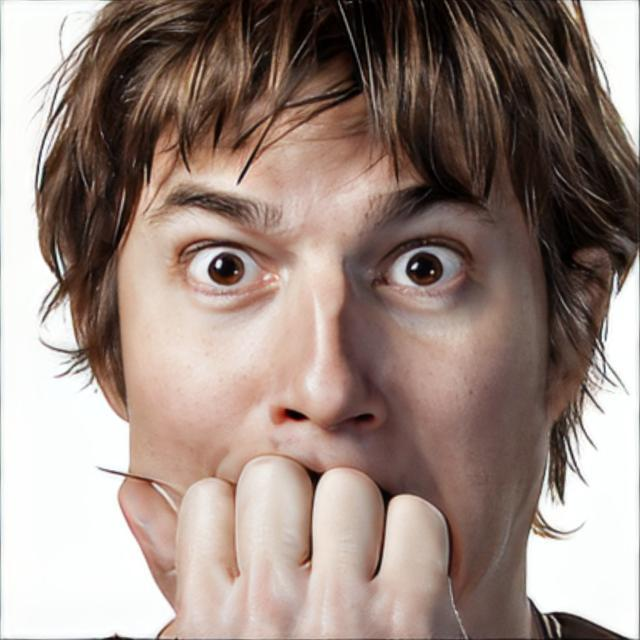fear: (118, 50, 550, 640)
